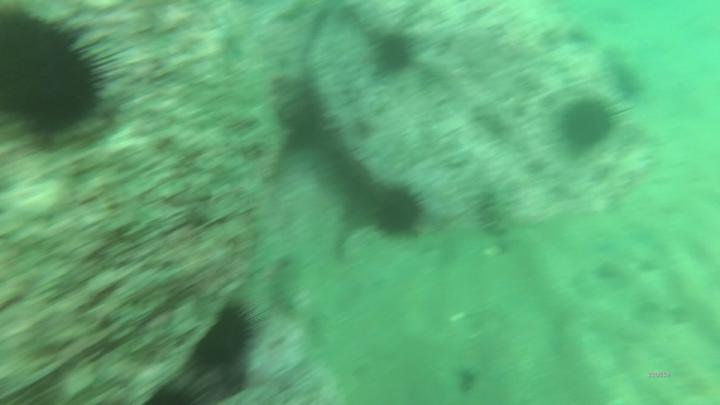echinus: (1, 7, 102, 132), (195, 301, 258, 373), (564, 92, 616, 157), (375, 182, 422, 243), (375, 32, 418, 76)
